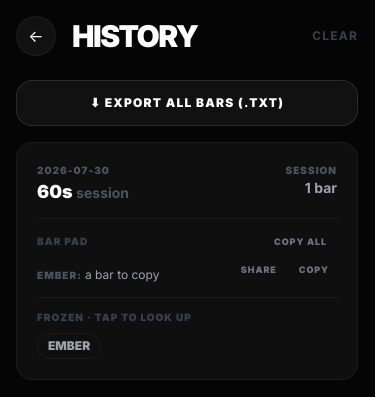
Copy All reports real clipboard outcomes › surfaces a failure when the clipboard write rejects
This screenshot has width=375, height=397.
Click the button "Copy All": (301, 242) [264,231,337,252]
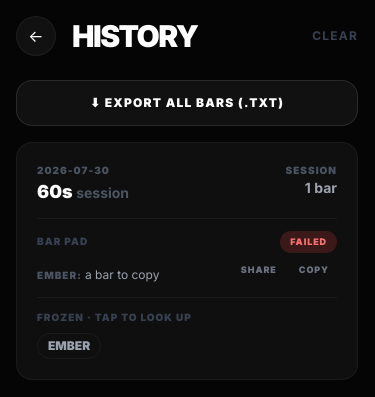
Expected: the button "Failed" is shown, [280,231,337,252]
